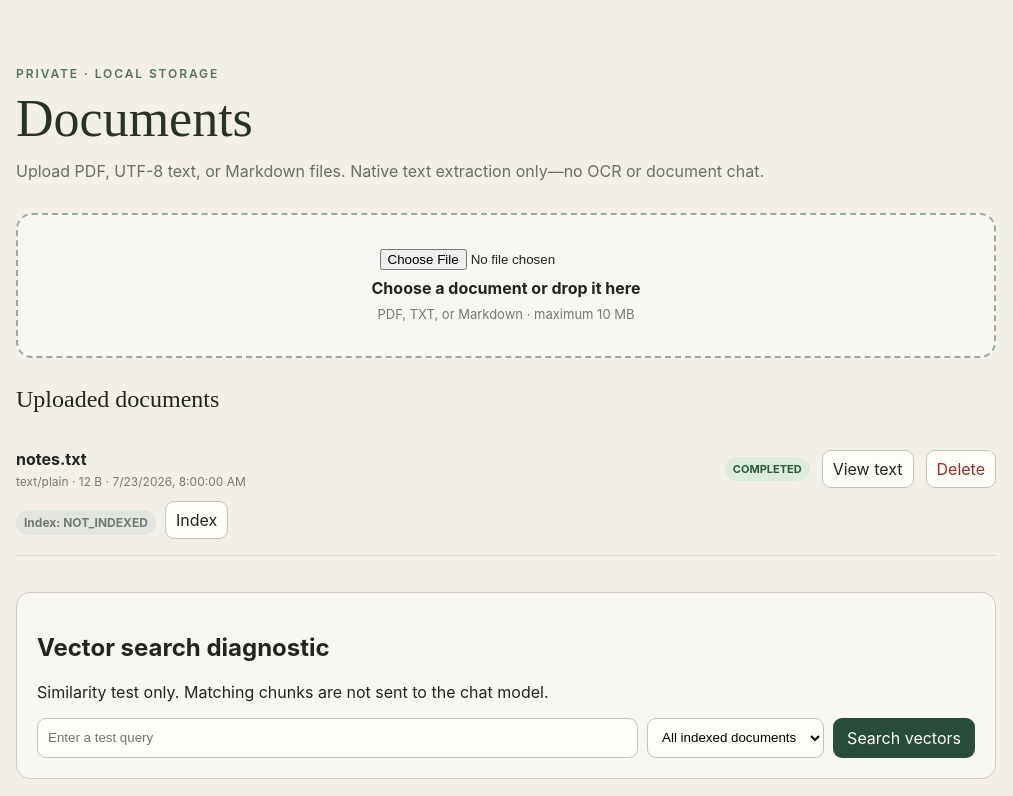
Test: document management › views extracted text
Check: the text "notes.txt" is shown, box [16,449,86,469]
Click the button "View text".
click(868, 469)  # box [822,450,914,488]
(page scrolled)
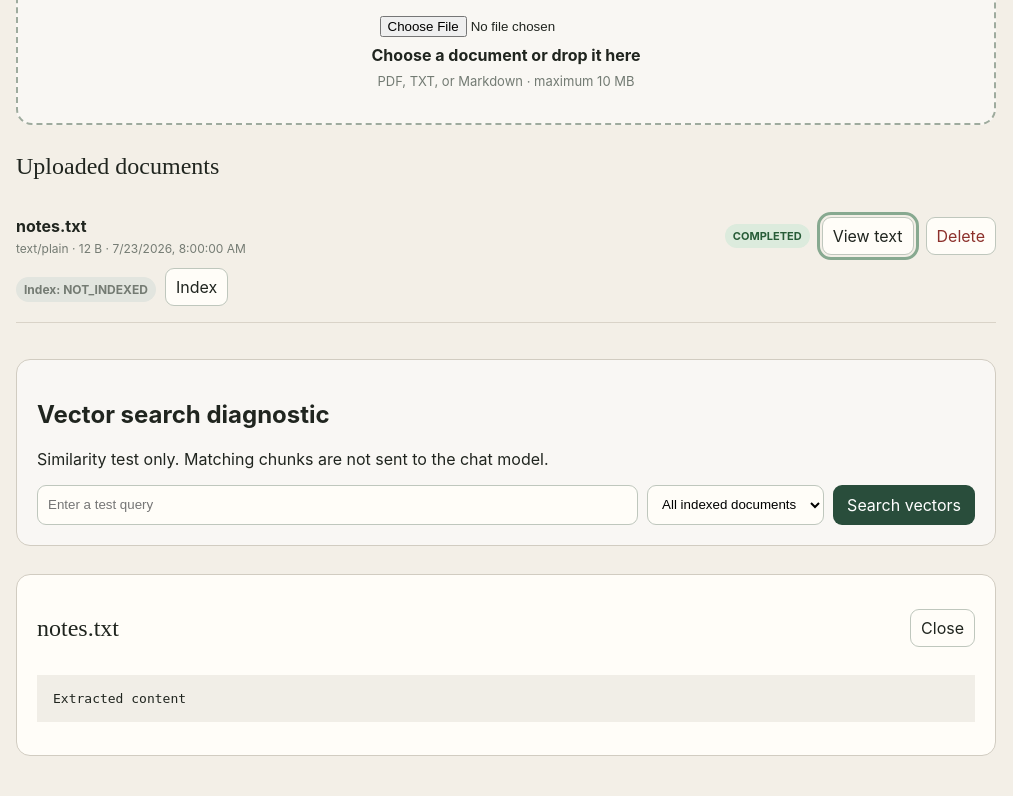
Check: the text "Extracted content" is shown, box [37,674,975,722]
